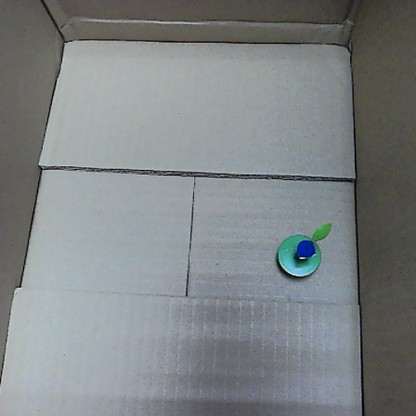leafairy: (274, 218, 332, 278)
